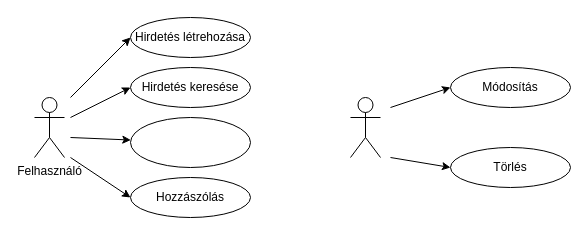
Some shapes in this 588 by 235 pixel diagram are drawn without their labels. The box of each missing label's shape, as (x1, y1, x2, y2) in pixels:
Adminisztrátor: (350, 96, 380, 158)
Hirdetés megvétele (letöltése): (130, 116, 250, 168)
